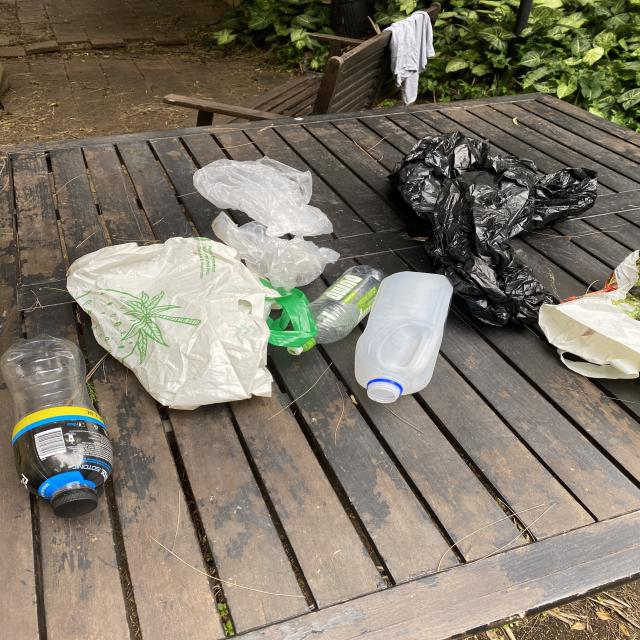bag: (65, 236, 318, 410), (388, 131, 597, 327), (538, 250, 640, 380), (194, 156, 334, 237), (211, 211, 341, 291)
bottle: (0, 333, 114, 518), (354, 271, 454, 404), (286, 266, 388, 356)
